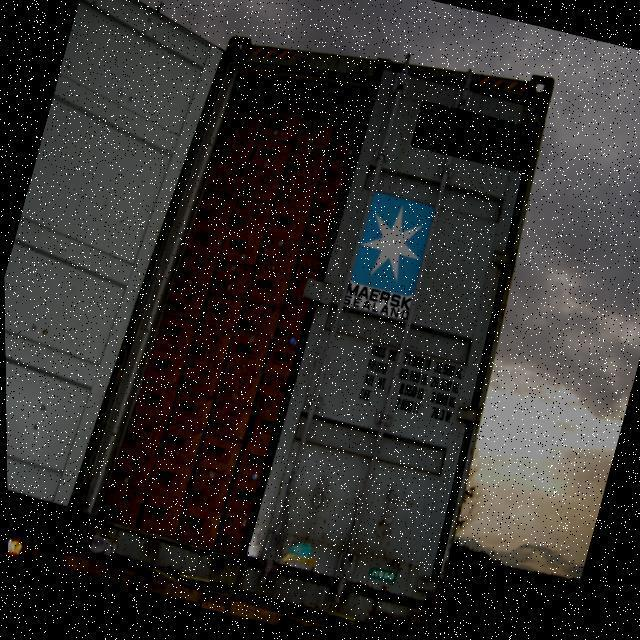container_number_h: (409, 100, 534, 182)
